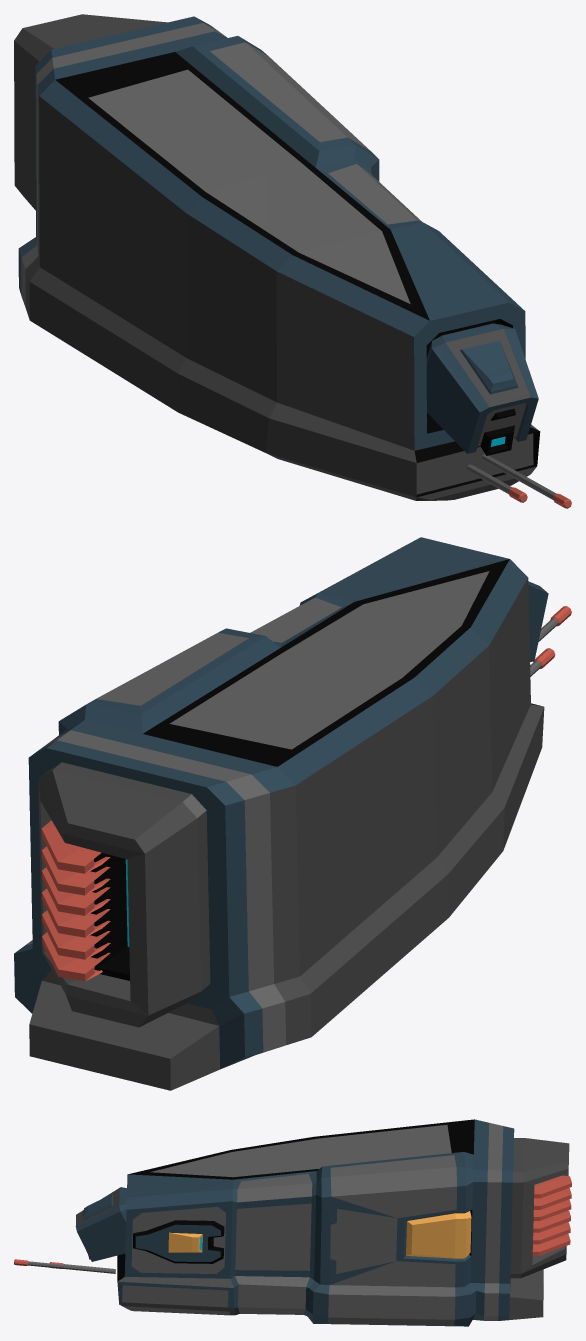
The model's file is enemy02-02.fbx.
3 renders of one model, top to bottom at view 1: azimuth 30°, elevation 25°; view 2: azimuth 150°, elevation 25°; view 3: azimuth 270°, elevation 25°, orthographic. The views are drawn at different scales.
Visible parts, largest first — view 1: SM_Ship_Transport_01; view 2: SM_Ship_Transport_01; view 3: SM_Ship_Transport_01.
Part boxes in pixels (<box>): SM_Ship_Transport_01: <box>14,14,571,508</box>; SM_Ship_Transport_01: <box>14,537,571,1090</box>; SM_Ship_Transport_01: <box>14,1119,571,1326</box>.
Bounding box in the file's own units: 782 × 825 × 2571.
